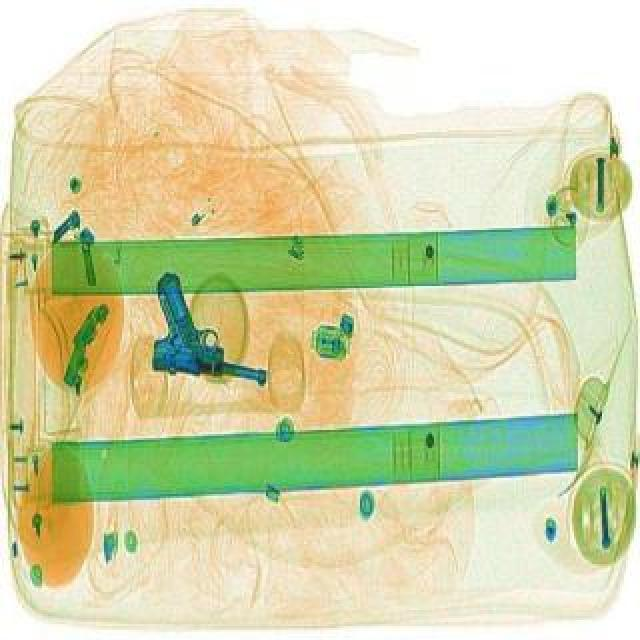gun: (140, 278, 280, 386)
